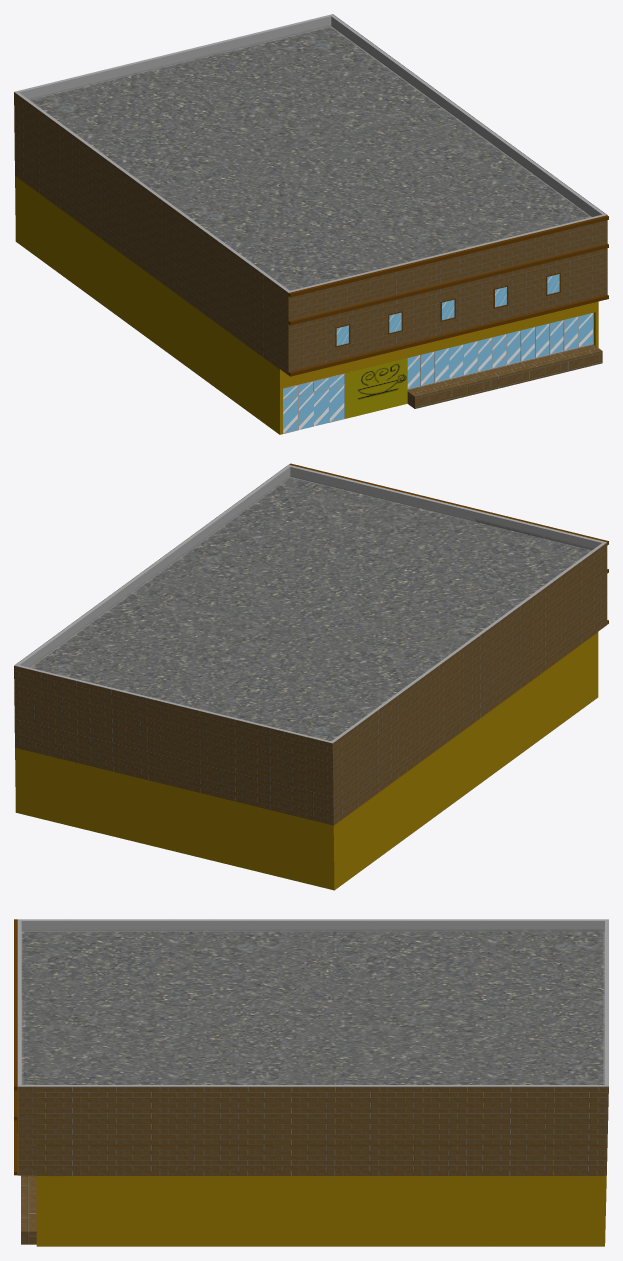
Rendered from Store2.FBX.
3 renders of one model, top to bottom at view 1: azimuth 30°, elevation 25°; view 2: azimuth 150°, elevation 25°; view 3: azimuth 270°, elevation 25°, orthographic. The views are drawn at different scales.
Visible parts, largest first — view 1: CoffeShop; view 2: CoffeShop; view 3: CoffeShop.
Part boxes in pixels (x1,y1,x2,y2): CoffeShop: [14, 14, 608, 434]; CoffeShop: [14, 463, 608, 890]; CoffeShop: [14, 919, 608, 1246].
Bounding box in the file's own units: 202 × 90 × 304.
